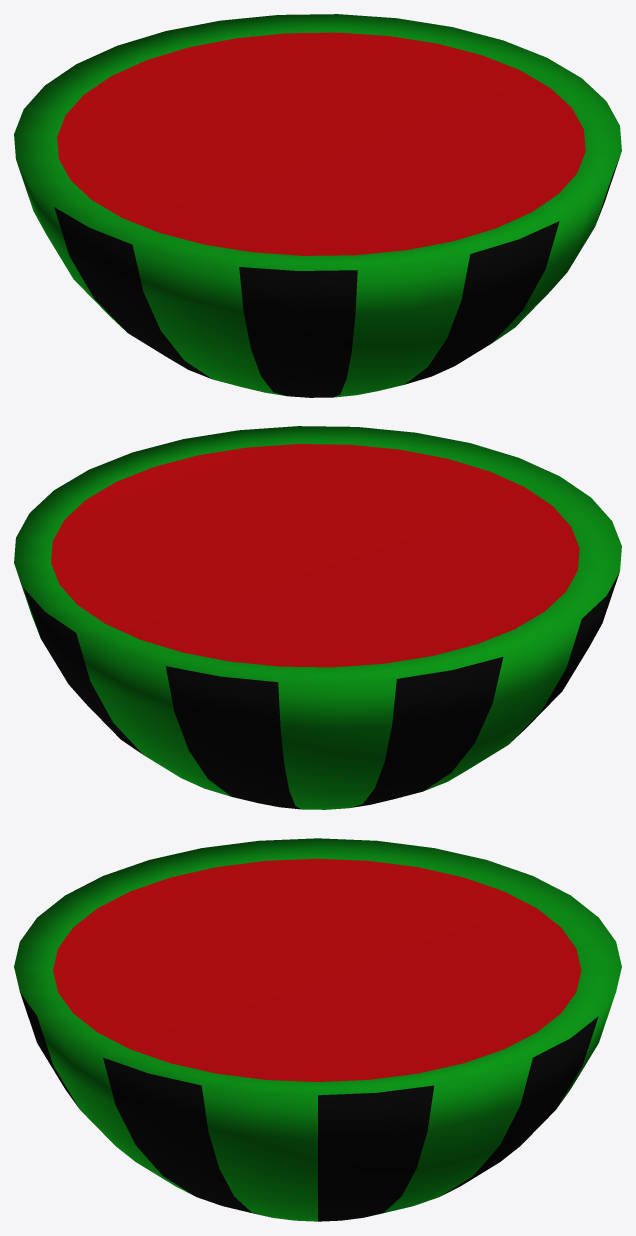
The model's file is WaterMeron.fbx.
3 renders of one model, top to bottom at view 1: azimuth 30°, elevation 25°; view 2: azimuth 150°, elevation 25°; view 3: azimuth 270°, elevation 25°, orthographic.
Visible parts, largest first — view 1: body; view 2: body; view 3: body.
Boxes of the visible parts, <box> form: body: <box>14,14,621,397</box>; body: <box>14,426,621,809</box>; body: <box>14,838,621,1221</box>.
Bounding box in the file's own units: 196 × 80.49 × 196.
